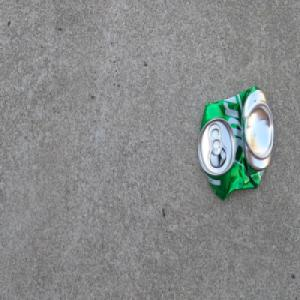SodaCan: (197, 84, 275, 201)
